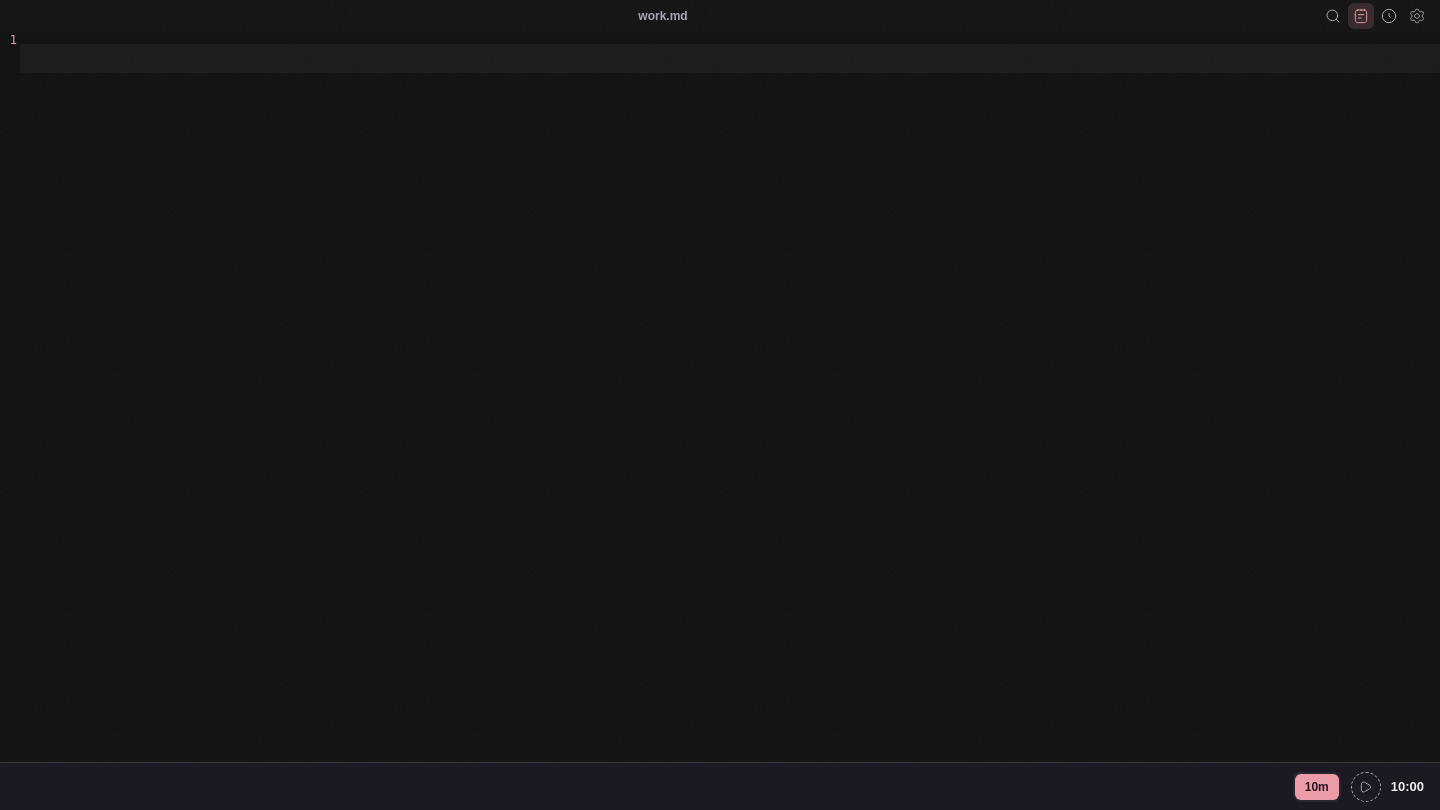
launcher file operation failures › keeps App on the editor and shows backend create errors in the Launcher
Click the button named "Open launcher" at (1333, 16), box [1320, 3, 1346, 29]
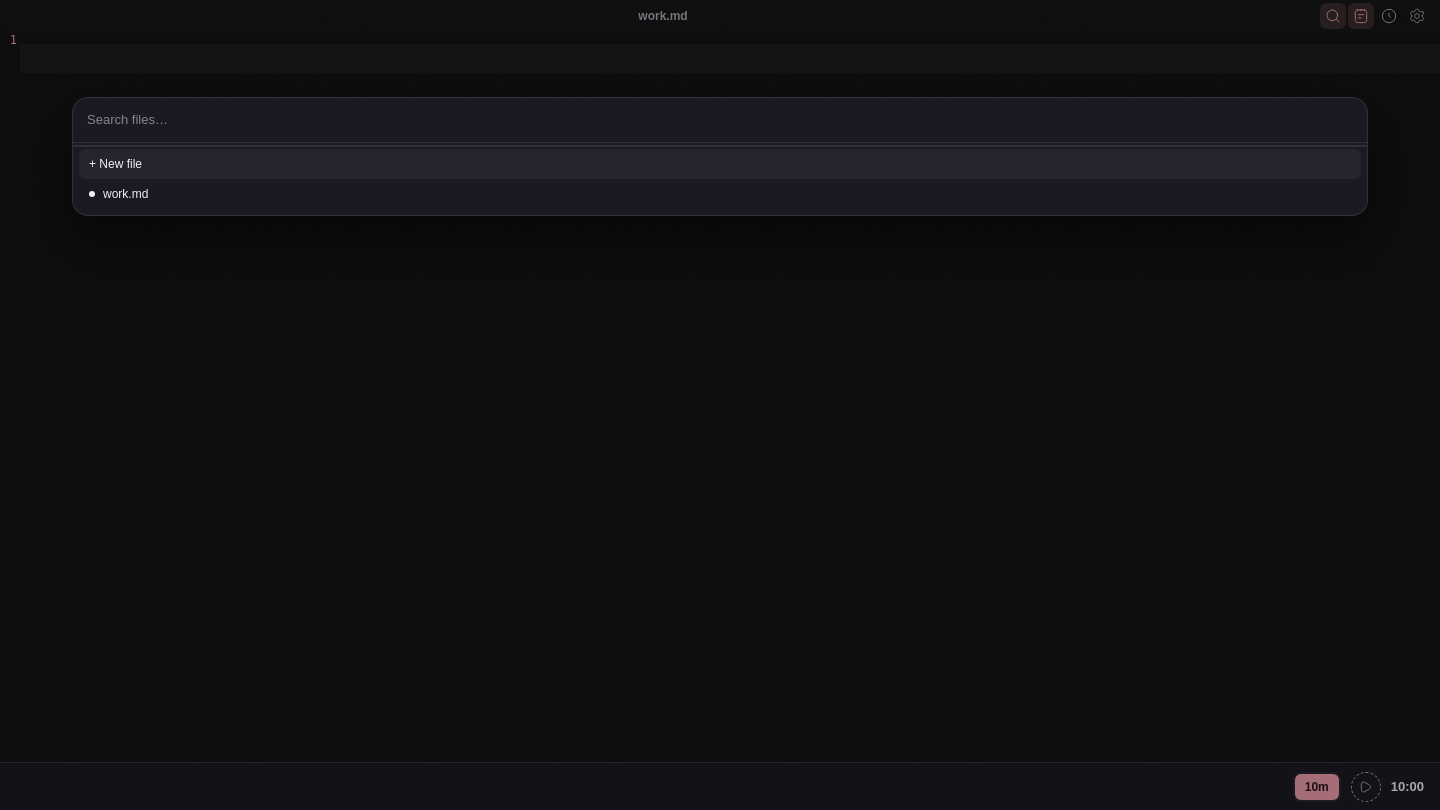
Click the option "+ New file" at (116, 164), box [79, 149, 1361, 179]
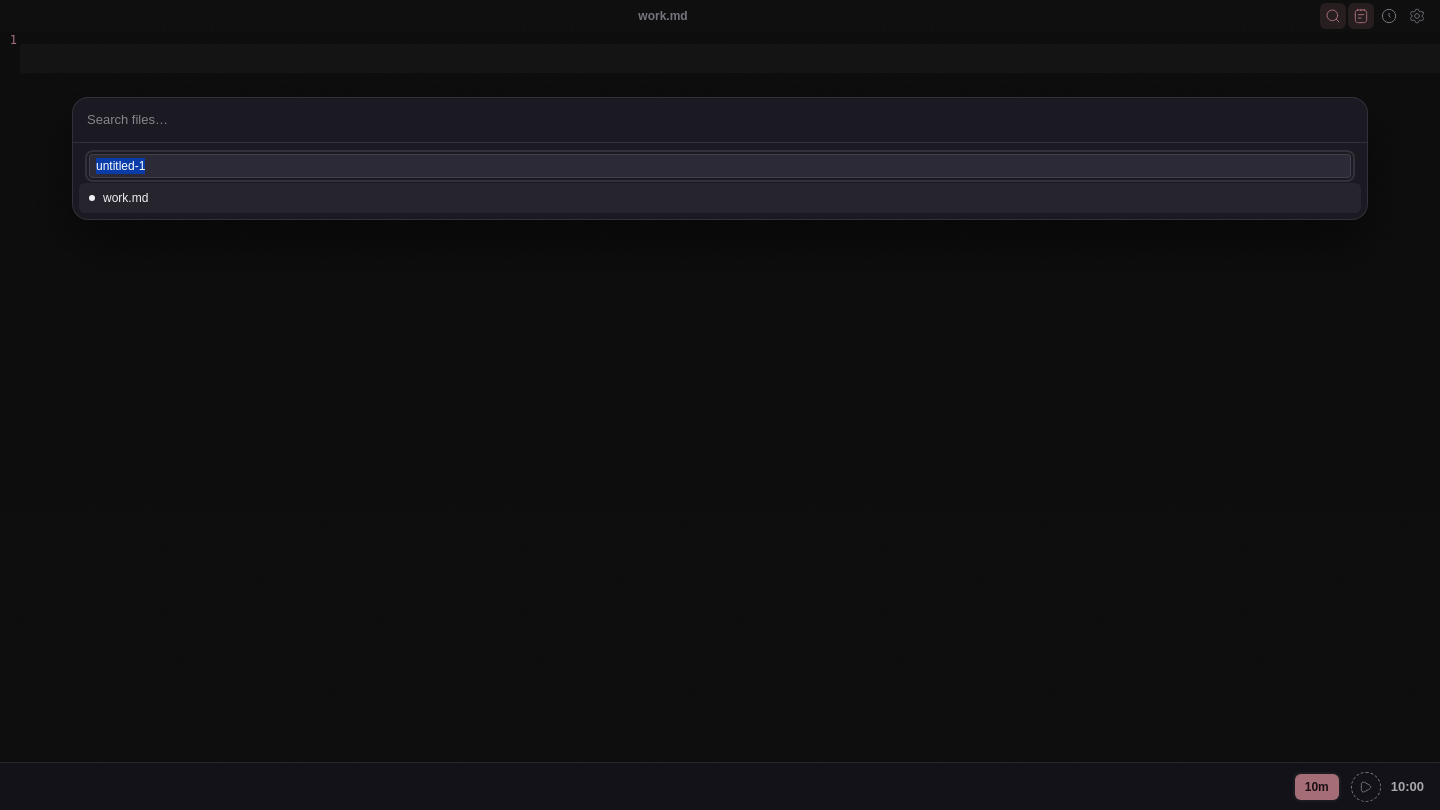
Press Enter in the field, box [89, 154, 1351, 178]
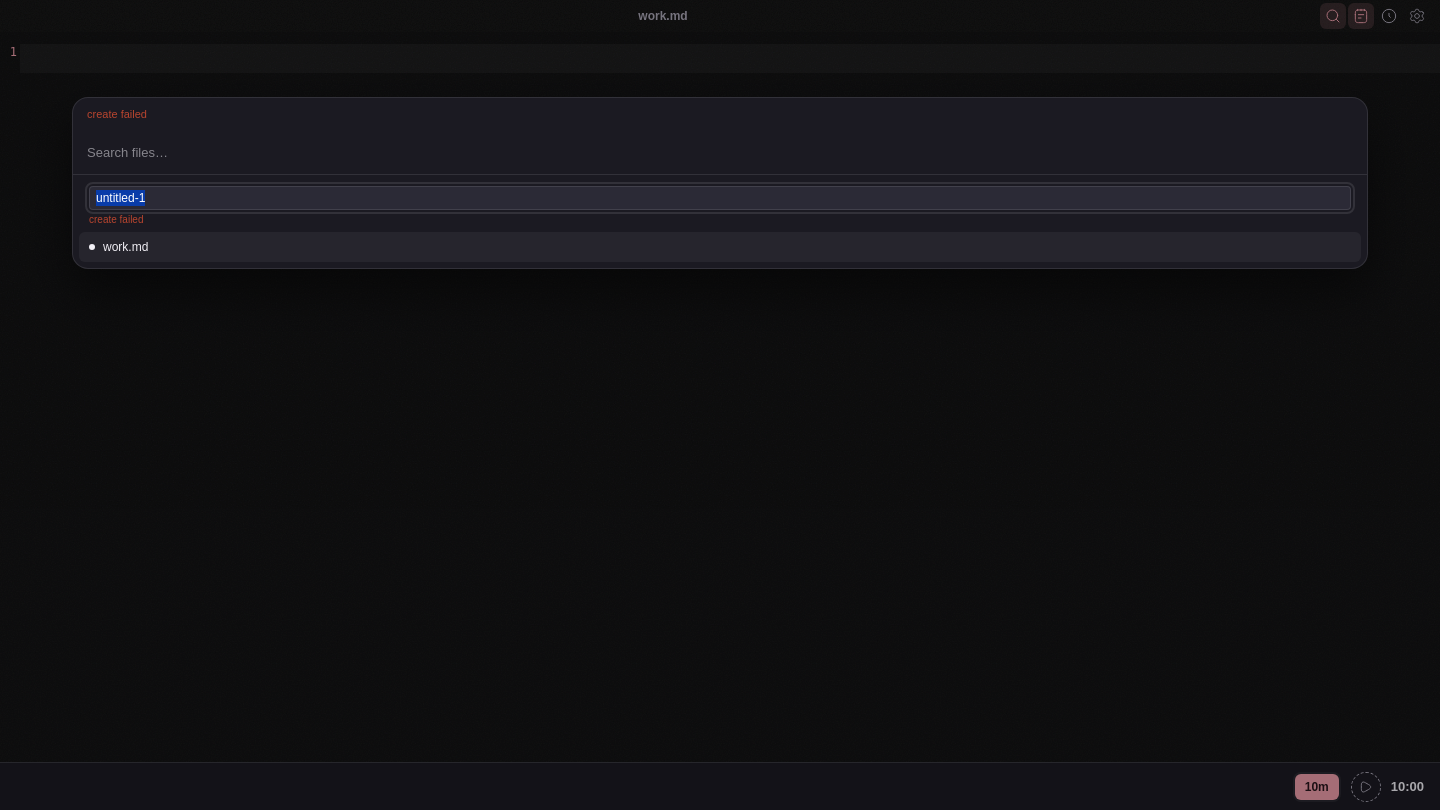
expect the text "create failed" is shown: met, box [87, 108, 147, 120]
